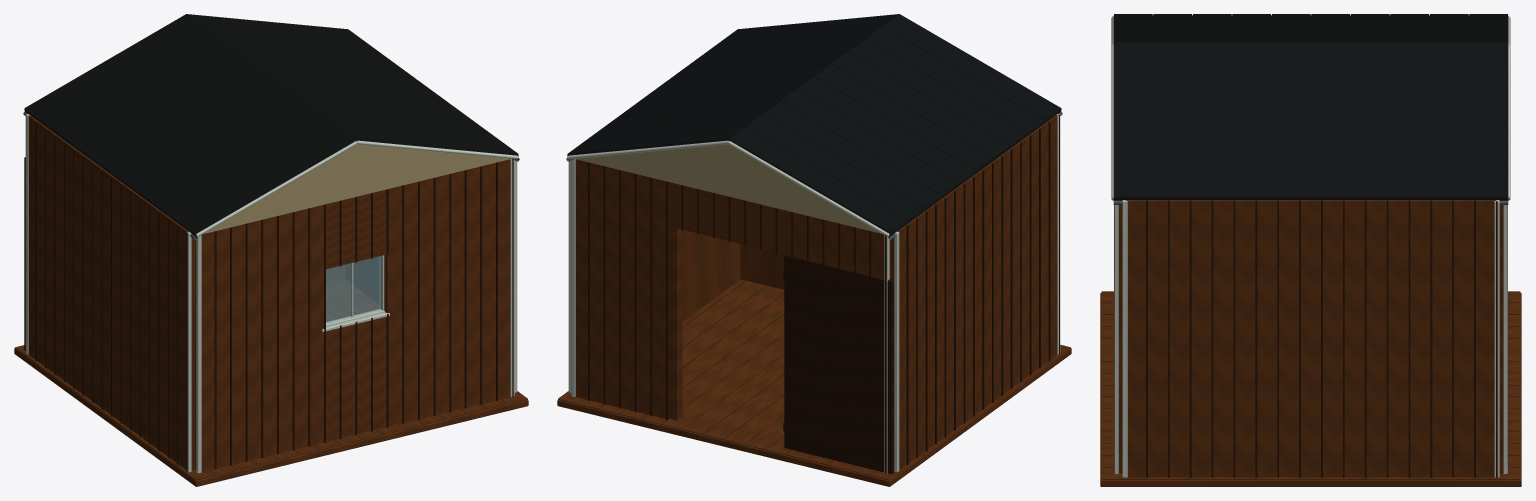
Rendered from Shed.gltf.
The picture shows the model from 3 angles, left to right: view 1: azimuth 30°, elevation 25°; view 2: azimuth 150°, elevation 25°; view 3: azimuth 270°, elevation 25°; orthographic projection. The views are drawn at different scales.
Visible parts, largest first — view 1: Shed__Body, Shed, Shed__Floor, Shed__Glass_Shed, Shed__Roof; view 2: Shed__Body, Shed__Floor, Shed__Door, Shed, Shed__Walls, Shed__Roof; view 3: Shed__Body, Shed__Floor, Shed__Roof_Right, Shed, Shed__Walls, Shed__Roof.
Boxes of the visible parts, box(x1,y1,x2,y2) form: Shed__Body: box(23, 14, 519, 474); Shed: box(191, 144, 511, 470); Shed__Floor: box(14, 279, 528, 486); Shed__Glass_Shed: box(326, 256, 380, 322); Shed__Roof: box(24, 109, 357, 237); Shed__Body: box(566, 14, 1062, 474); Shed__Floor: box(557, 279, 1071, 486); Shed__Door: box(784, 255, 893, 474); Shed: box(574, 144, 894, 470); Shed__Walls: box(740, 244, 784, 289); Shed__Roof: box(728, 109, 1061, 237); Shed__Body: box(1102, 14, 1519, 477); Shed__Floor: box(1100, 291, 1521, 486); Shed__Roof_Right: box(1113, 43, 1508, 200); Shed: box(1118, 205, 1503, 473); Shed__Walls: box(1118, 342, 1122, 473); Shed__Roof: box(1113, 15, 1508, 43).
Bounding box in the file's own units: 3.78 × 3.3 × 3.58.
Materials: 2 (1 with a texture image).
